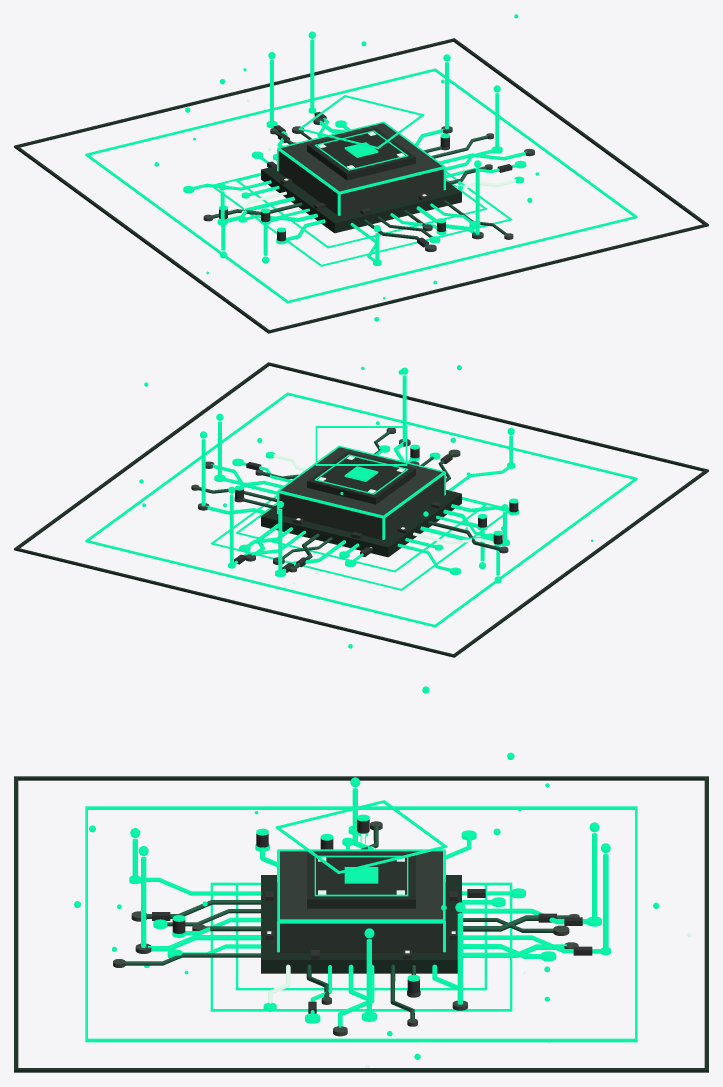
Rendered from 3DModel.glb.
3 views of the same model, one above another, from view 1: azimuth 30°, elevation 25°; view 2: azimuth 150°, elevation 25°; view 3: azimuth 270°, elevation 25° (orthographic). The views are drawn at different scales.
Parts seen in each view (by area): view 1: Chip_Body, Frame_Dark, Frame_Glow, Chip_Substrate, Chip_Lid, Chip_SeamGlow, Frame_UnderB, Frame_TopFloat, Frame_UnderA; view 2: Chip_Body, Frame_Dark, Frame_Glow, Chip_Substrate, Chip_Lid, Chip_SeamGlow, Frame_UnderB, Frame_UnderA, Frame_TopFloat; view 3: Chip_Body, Frame_Dark, Frame_Glow, Chip_Substrate, Chip_Lid, Chip_SeamGlow, Frame_UnderB, Frame_TopFloat, Frame_UnderA, Trace_S7, Chip_LidGlow, Trace_S5.
Part boxes in pixels (x1=…): Chip_Body: x1=278, y1=123, x2=444, y2=216; Frame_Dark: x1=14, y1=38, x2=708, y2=333; Frame_Glow: x1=85, y1=68, x2=637, y2=303; Chip_Substrate: x1=261, y1=165, x2=461, y2=233; Chip_Lid: x1=307, y1=128, x2=415, y2=180; Chip_SeamGlow: x1=277, y1=121, x2=445, y2=194; Frame_UnderB: x1=213, y1=171, x2=512, y2=266; Frame_TopFloat: x1=298, y1=95, x2=424, y2=148; Frame_UnderA: x1=236, y1=174, x2=486, y2=248; Chip_Body: x1=279, y1=447, x2=444, y2=540; Frame_Dark: x1=14, y1=362, x2=708, y2=657; Frame_Glow: x1=85, y1=392, x2=637, y2=627; Chip_Substrate: x1=261, y1=490, x2=461, y2=557; Chip_Lid: x1=307, y1=452, x2=415, y2=504; Chip_SeamGlow: x1=277, y1=445, x2=445, y2=518; Frame_UnderB: x1=210, y1=495, x2=508, y2=590; Frame_UnderA: x1=236, y1=498, x2=486, y2=572; Frame_TopFloat: x1=315, y1=426, x2=407, y2=465; Chip_Body: x1=277, y1=851, x2=445, y2=952; Frame_Dark: x1=14, y1=776, x2=708, y2=1072; Frame_Glow: x1=85, y1=806, x2=637, y2=1042; Chip_Substrate: x1=261, y1=875, x2=461, y2=973; Chip_Lid: x1=307, y1=853, x2=415, y2=908; Chip_SeamGlow: x1=277, y1=849, x2=445, y2=923; Frame_UnderB: x1=210, y1=882, x2=512, y2=1011; Frame_TopFloat: x1=275, y1=800, x2=447, y2=873; Frame_UnderA: x1=236, y1=882, x2=486, y2=990; Trace_S7: x1=125, y1=953, x2=260, y2=965; Chip_LidGlow: x1=314, y1=855, x2=408, y2=896; Trace_S5: x1=148, y1=935, x2=260, y2=951.
Size of the model in its own units: 8.3 by 3.25 by 8.3.
